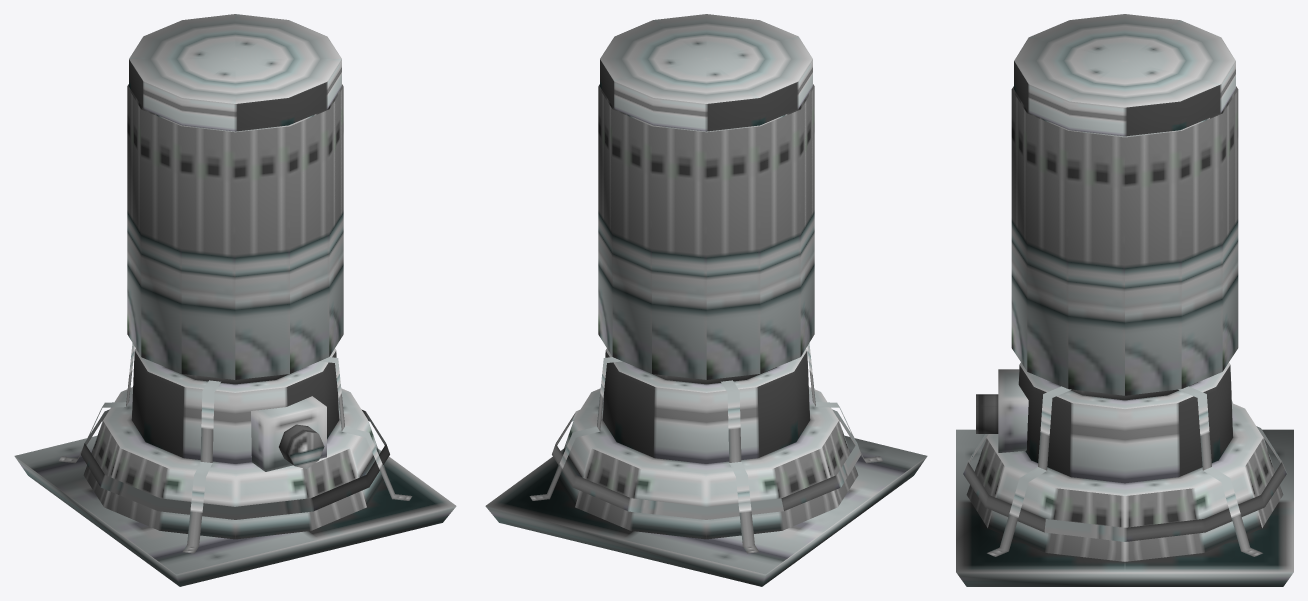
Rendered from int_oth_stove.dae.
3 renders of one model, left to right at view 1: azimuth 30°, elevation 25°; view 2: azimuth 150°, elevation 25°; view 3: azimuth 270°, elevation 25°, orthographic. The views are drawn at different scales.
Visible parts, largest first — view 1: int_oth_stove; view 2: int_oth_stove; view 3: int_oth_stove.
Part boxes in pixels (x1,y1,x2,y2): int_oth_stove: (14, 14, 456, 586); int_oth_stove: (485, 14, 927, 586); int_oth_stove: (956, 14, 1293, 586).
Bounding box in the file's own units: 25.6 × 38.4 × 25.6.
2 materials, 2 textured.
